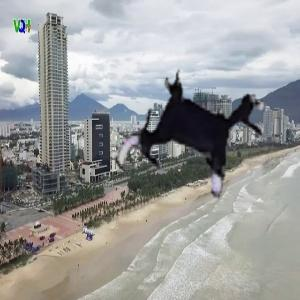drone: (110, 56, 280, 226)
